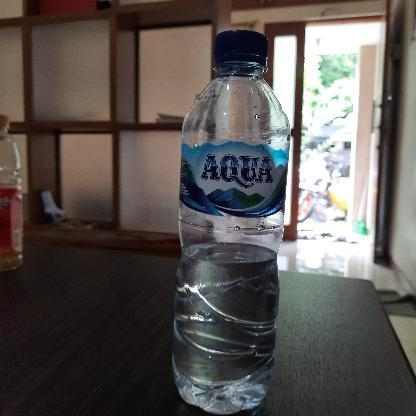Plastic Bottle: (170, 28, 292, 416)
